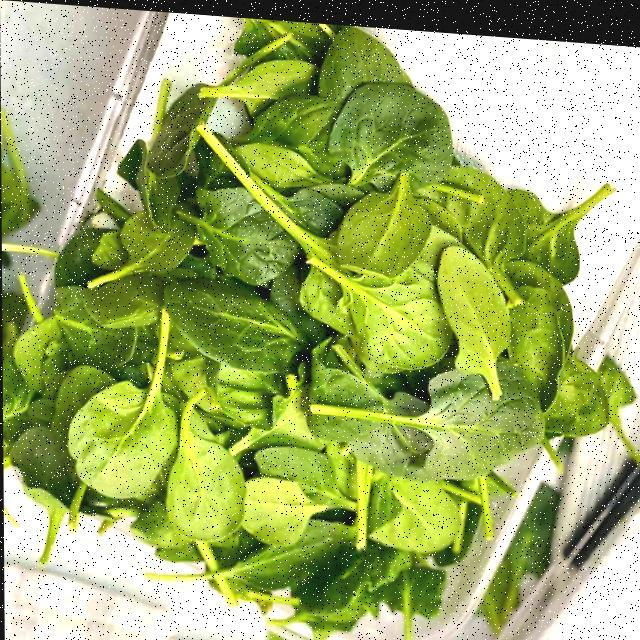Spinach: (0, 0, 624, 640)
